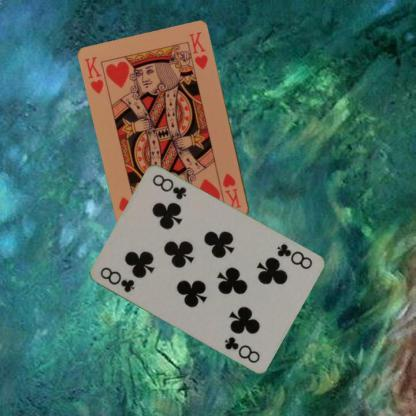8c: (96, 264, 136, 294), (274, 241, 314, 271)
Kh: (220, 170, 243, 212), (82, 54, 105, 96)
